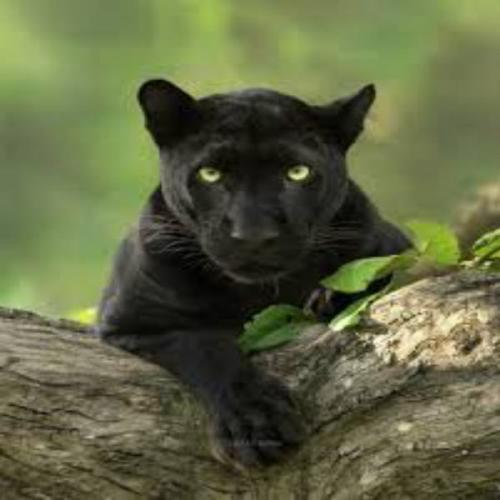panther-endangered: (98, 77, 419, 472)
